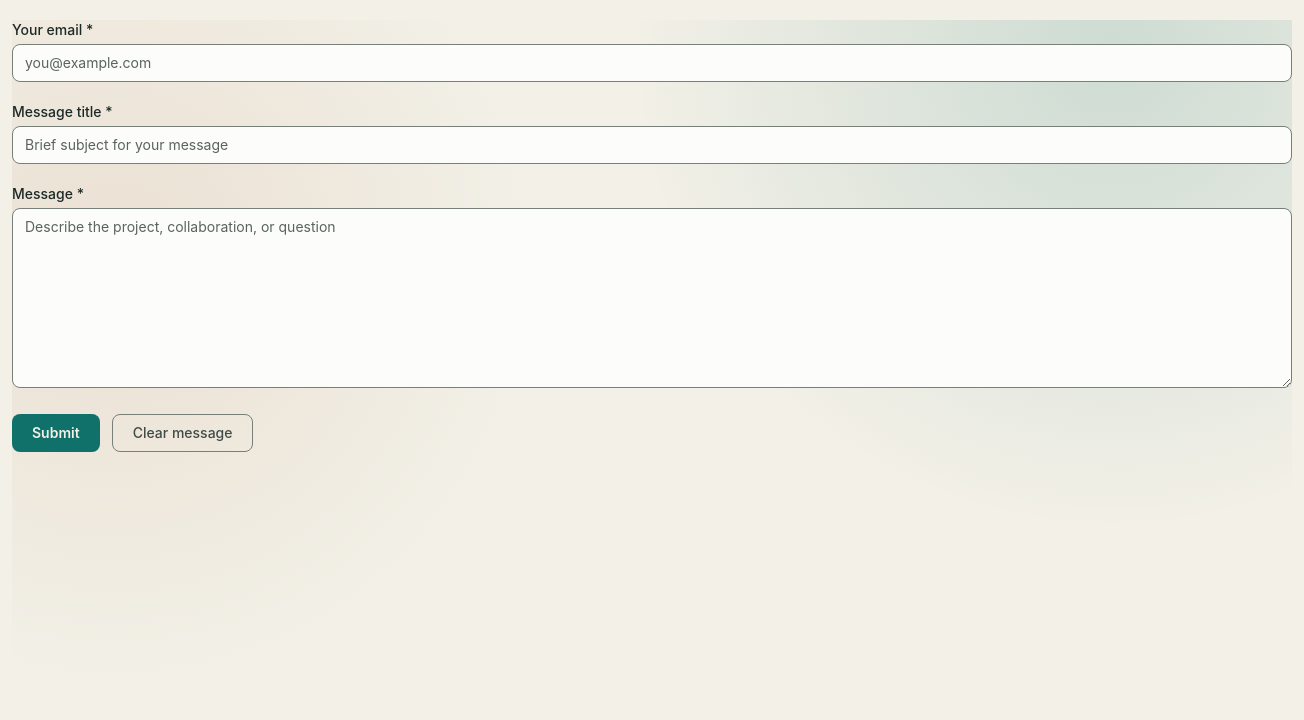
Test case: ContactForm submit behavior › shows the API error message when the API returns failure
The width and height of the screenshot is (1304, 720).
In the field labelled "Your email *": (652, 63) [12,44,1292,82], type "visitor@example.com"
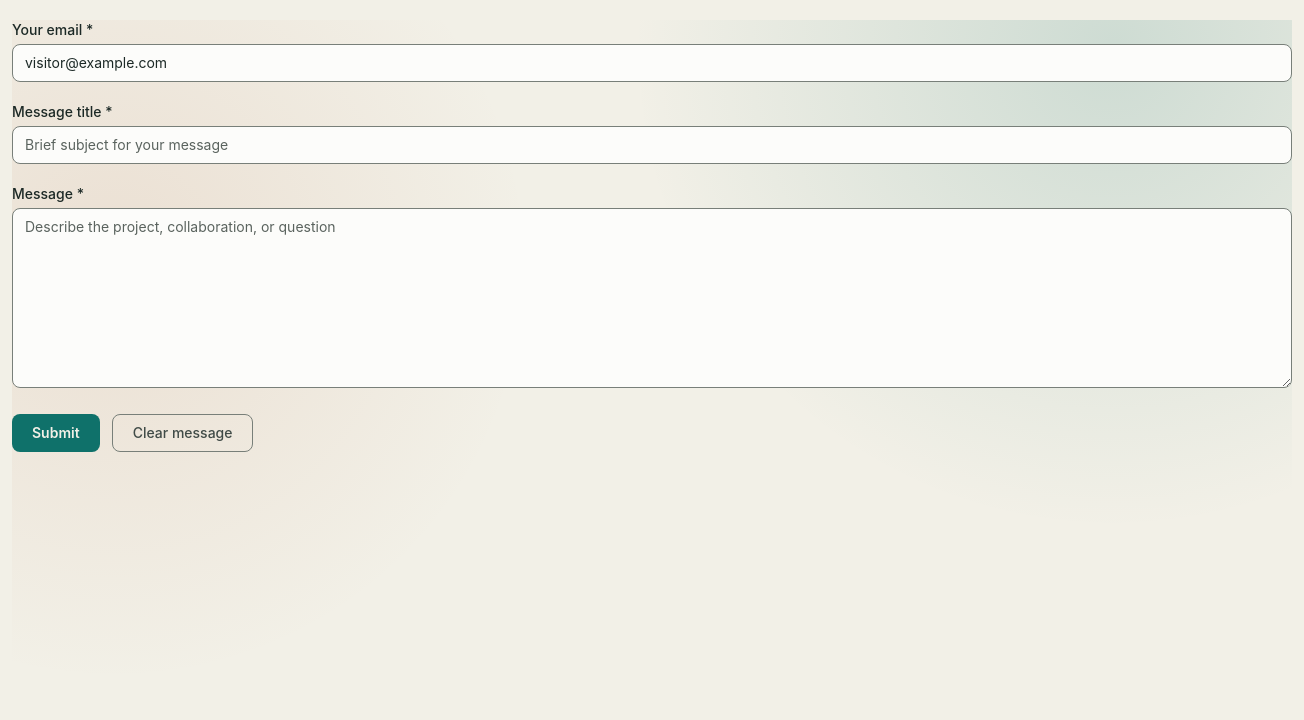
In the field labelled "Message title *": (652, 145) [12,126,1292,164], type "Hello there"
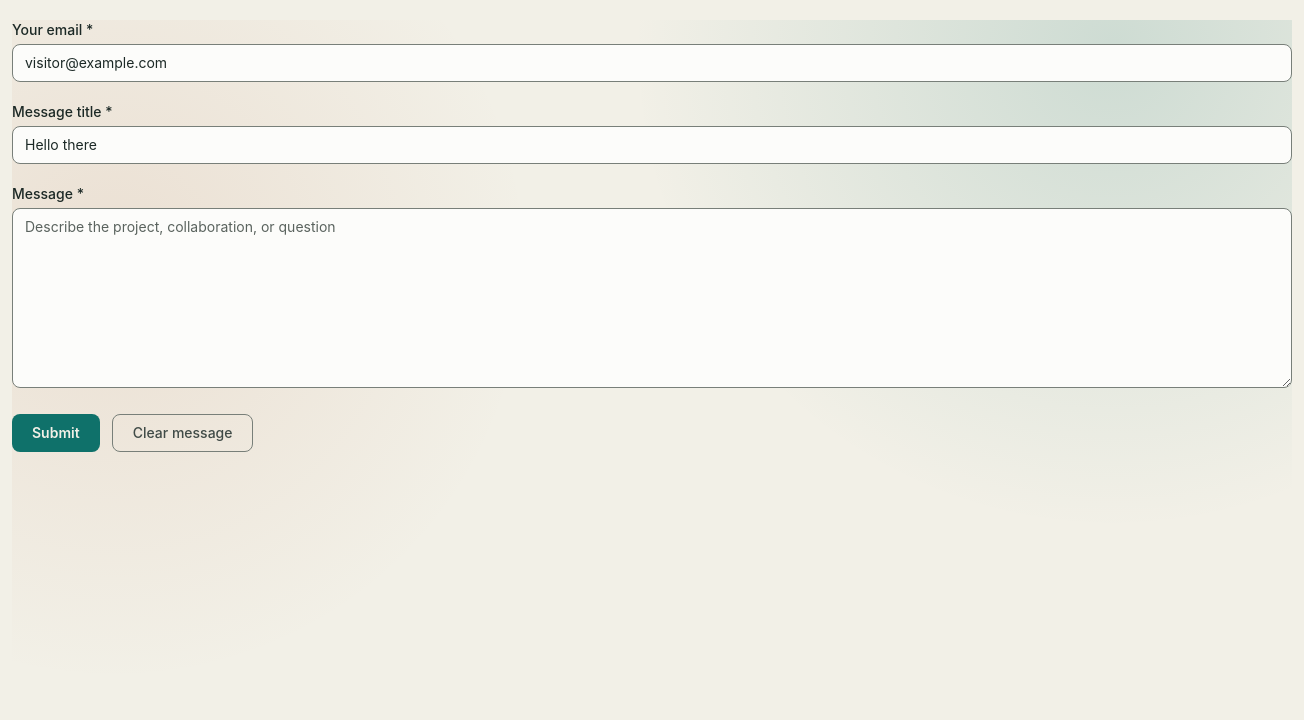
In the text box labelled "Message *": (652, 298) [12,208,1292,388], type "This is a long enough test message."
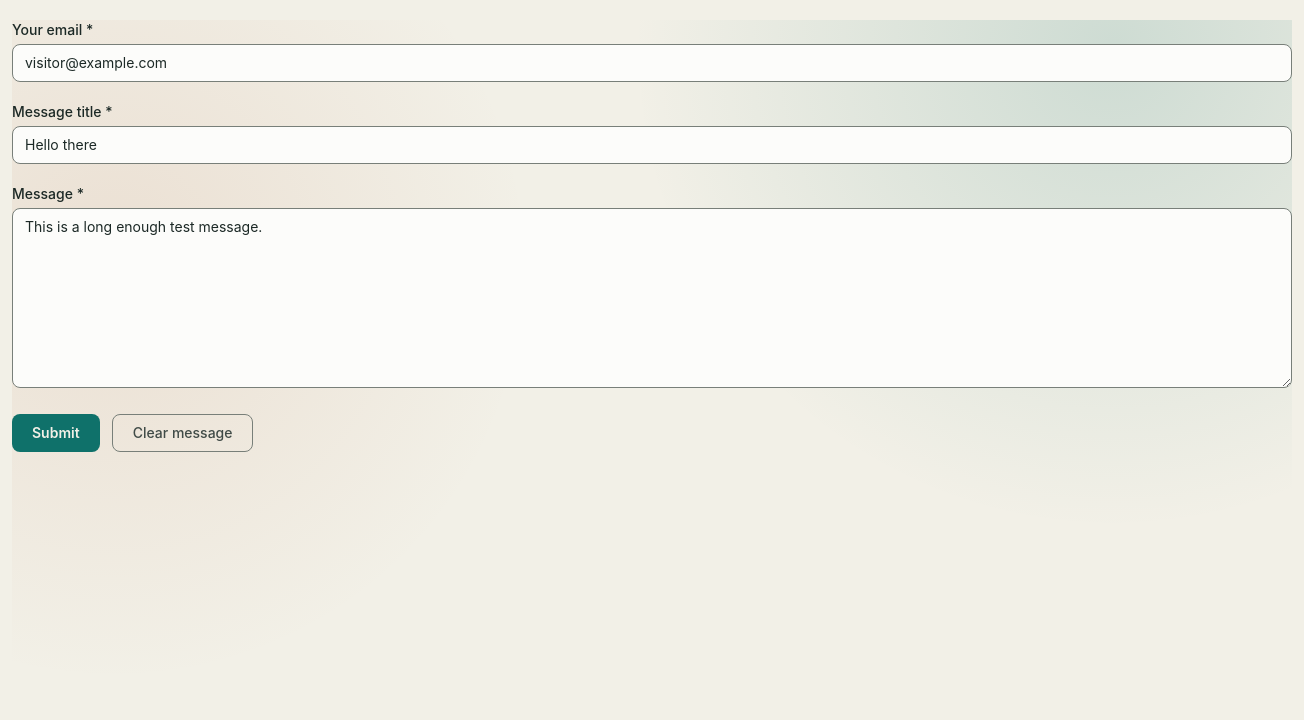
Click the button "Submit": (56, 433) [12,414,100,452]
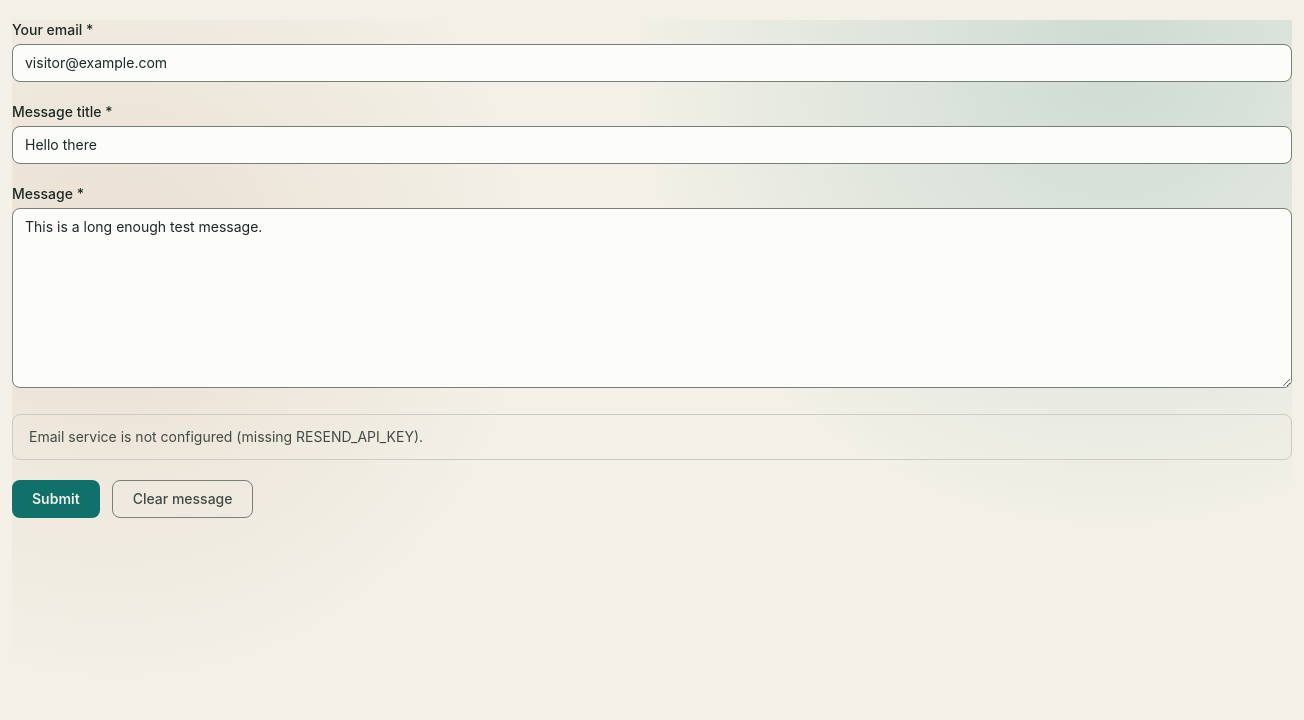
Check: the message reads "Email service is not configured (missing RESEND_API_KEY).", box [29,428,423,445]
